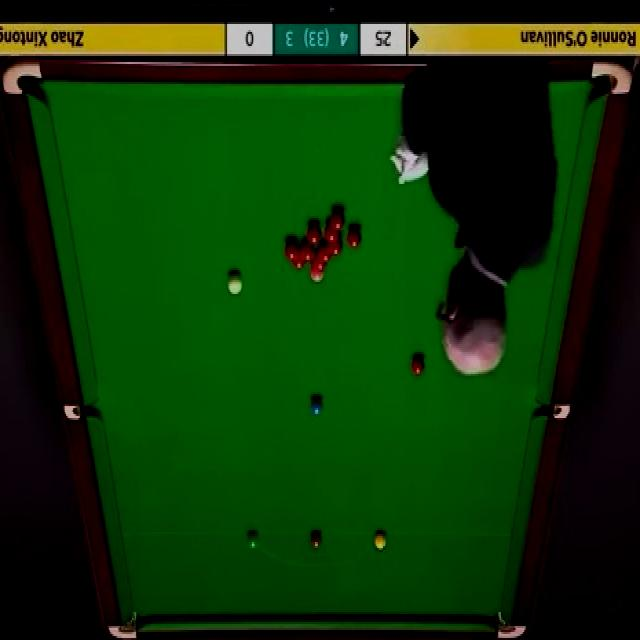pocket: (2, 60, 44, 100), (591, 61, 634, 97), (495, 606, 531, 640), (107, 608, 142, 640), (62, 405, 103, 420), (535, 405, 573, 420)
